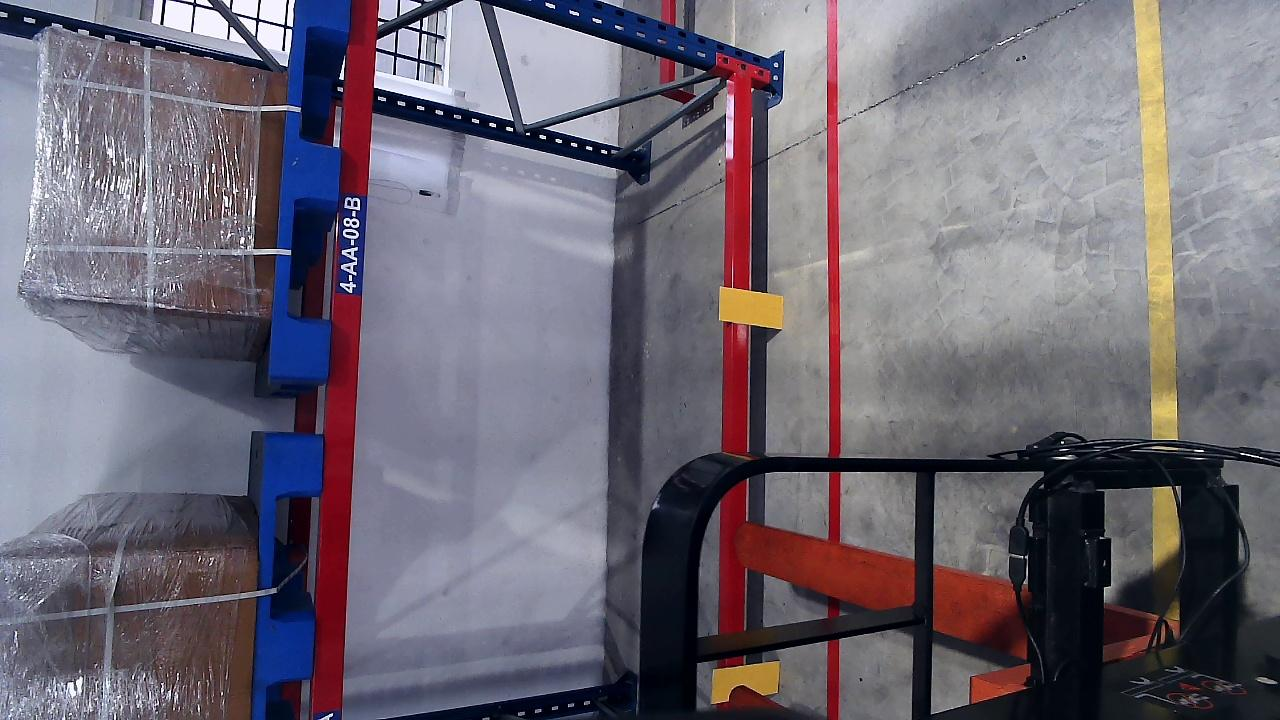h_rack: (338, 0, 376, 620), (725, 78, 758, 452)
orange_strip: (719, 287, 784, 329), (710, 660, 780, 695)
red_line: (822, 84, 844, 421)
small_pallet: (271, 1, 351, 376), (252, 432, 322, 719)
yellow_line: (1134, 0, 1180, 438)
